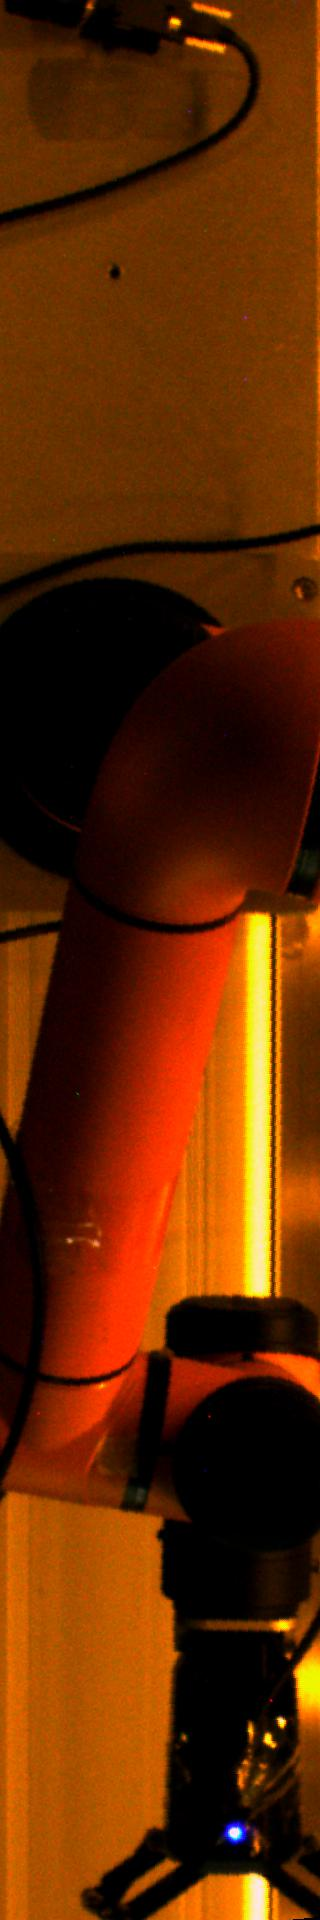keyPoint_1: (219, 1817, 250, 1847)
keyPoint_2: (99, 260, 129, 289)
